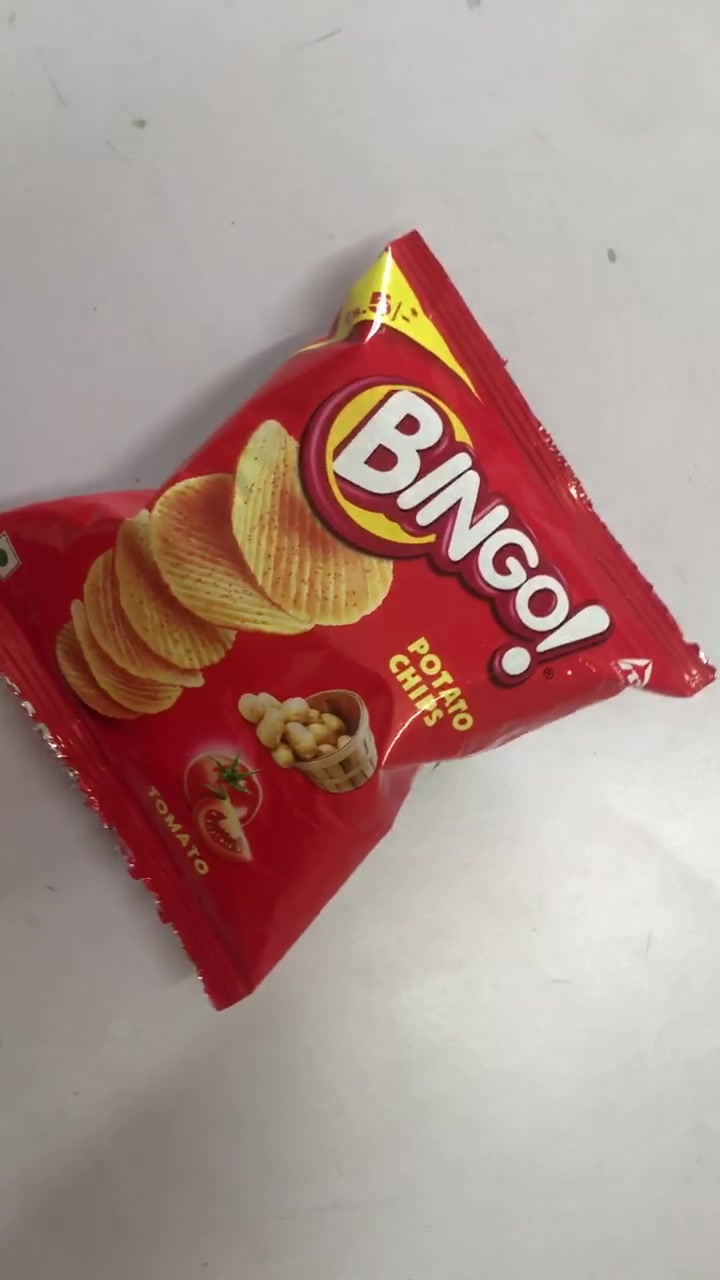Bingo: (3, 238, 710, 1003)
